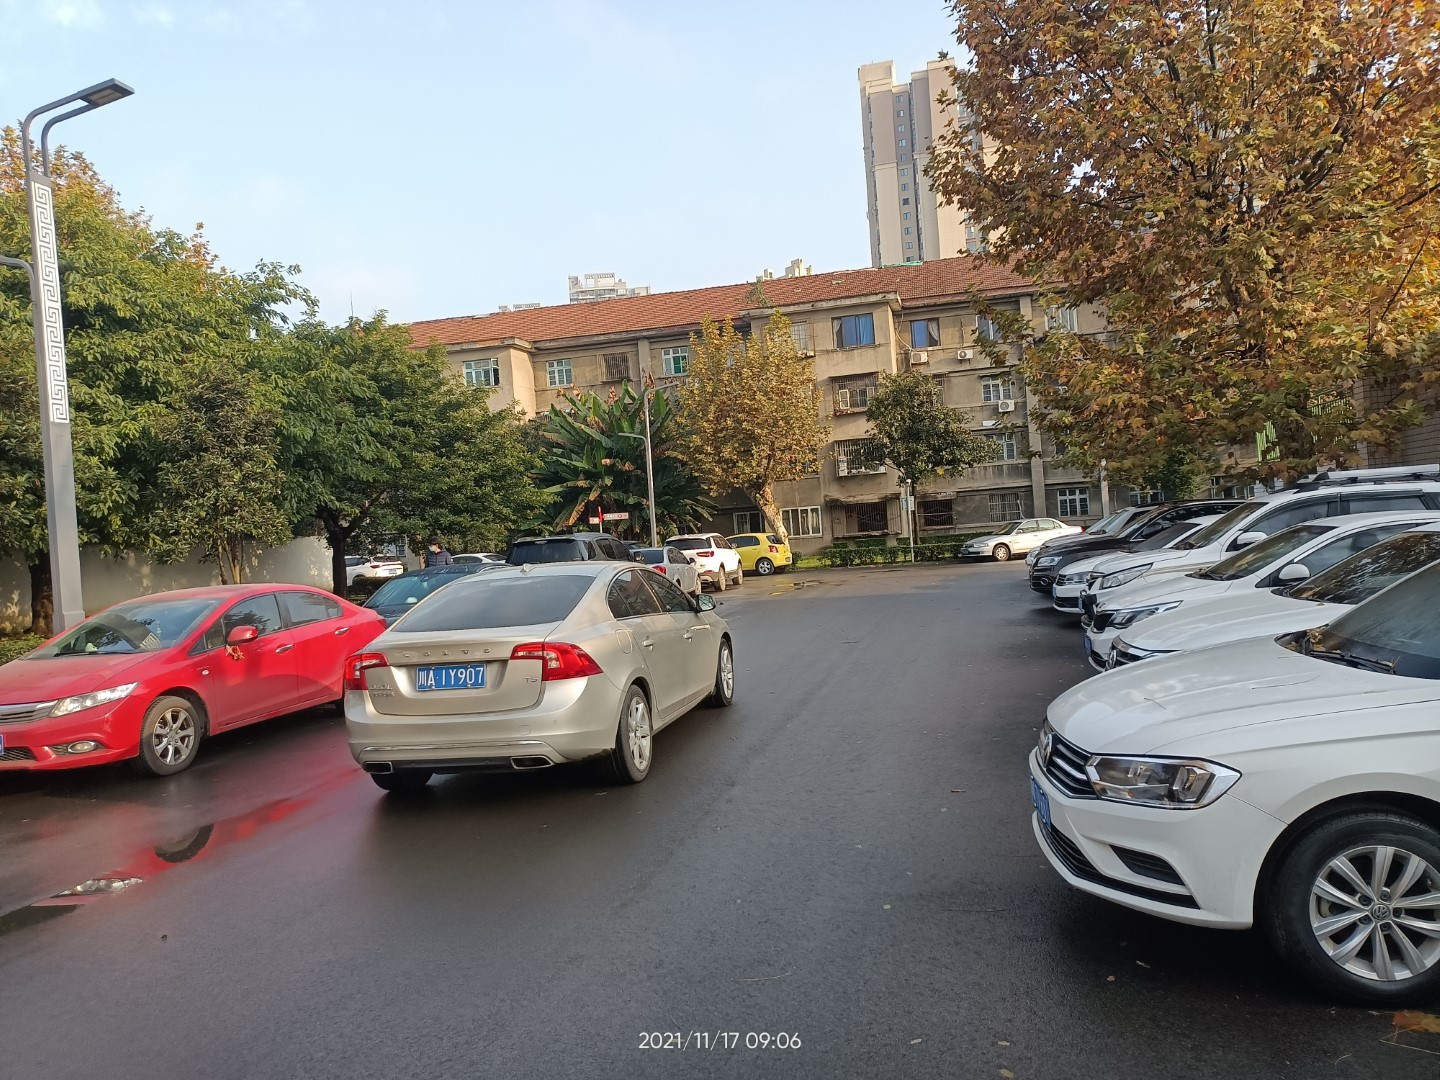plate: (414, 661, 488, 691)
